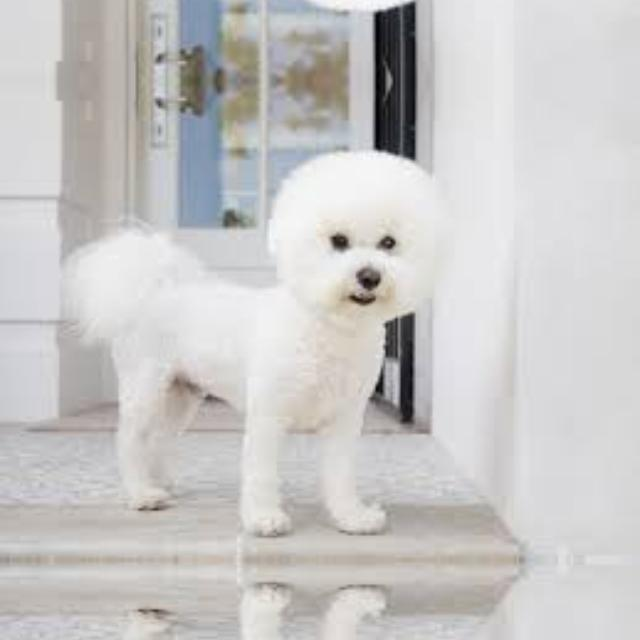dog: (31, 138, 446, 532), (30, 587, 445, 640), (30, 0, 445, 22)
